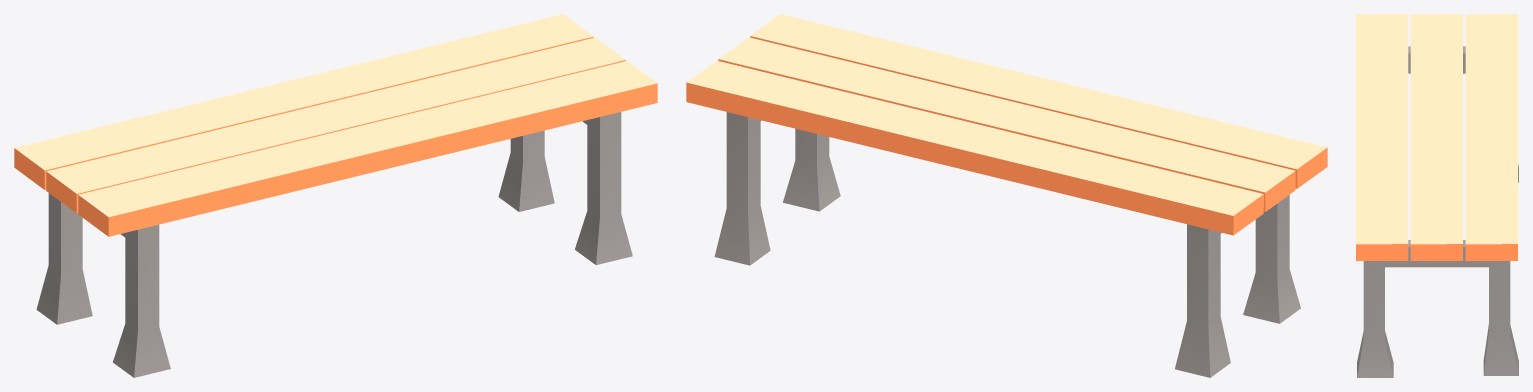
The model's file is city2-bench-02.glb.
3 renders of one model, left to right at view 1: azimuth 30°, elevation 25°; view 2: azimuth 150°, elevation 25°; view 3: azimuth 270°, elevation 25°, orthographic. The views are drawn at different scales.
Parts seen in each view (by area): view 1: Bench_02; view 2: Bench_02; view 3: Bench_02.
Boxes of the visible parts, box(x1,y1,x2,y2) form: Bench_02: box(14, 14, 657, 377); Bench_02: box(686, 14, 1327, 377); Bench_02: box(1356, 14, 1518, 377).
Size of the model in its own units: 1.7 by 0.4962 by 0.5088.
Materials: 1 (1 with a texture image).
